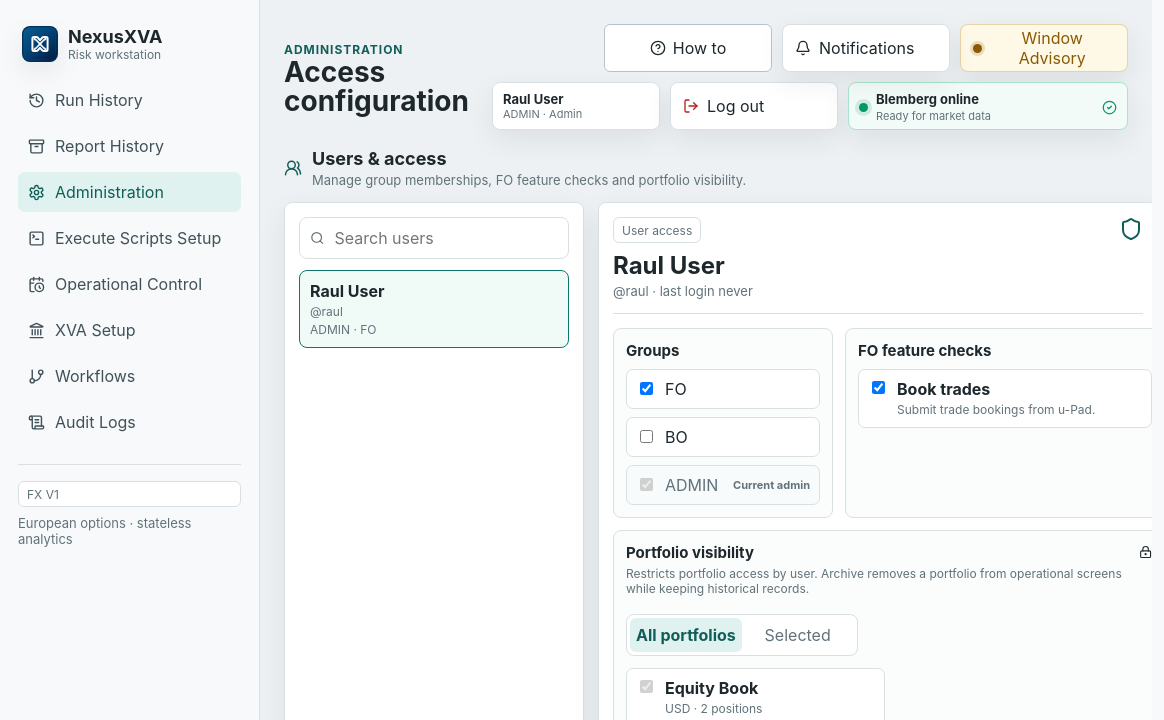
Test: AdminPage › renders users, protects the current ADMIN group, and updates a permission
Check: the text "Raul User" below "Access configuration" is shown, box left=503, top=91, right=564, bottom=107
Check: the checkbox labelled "ADMIN Current admin" is disabled, box left=640, top=478, right=653, bottom=491
Step 1. Click the checkbox labelled "Book trades Submit trade bookings from u-Pad." → point(878, 388), box left=872, top=381, right=885, bottom=394
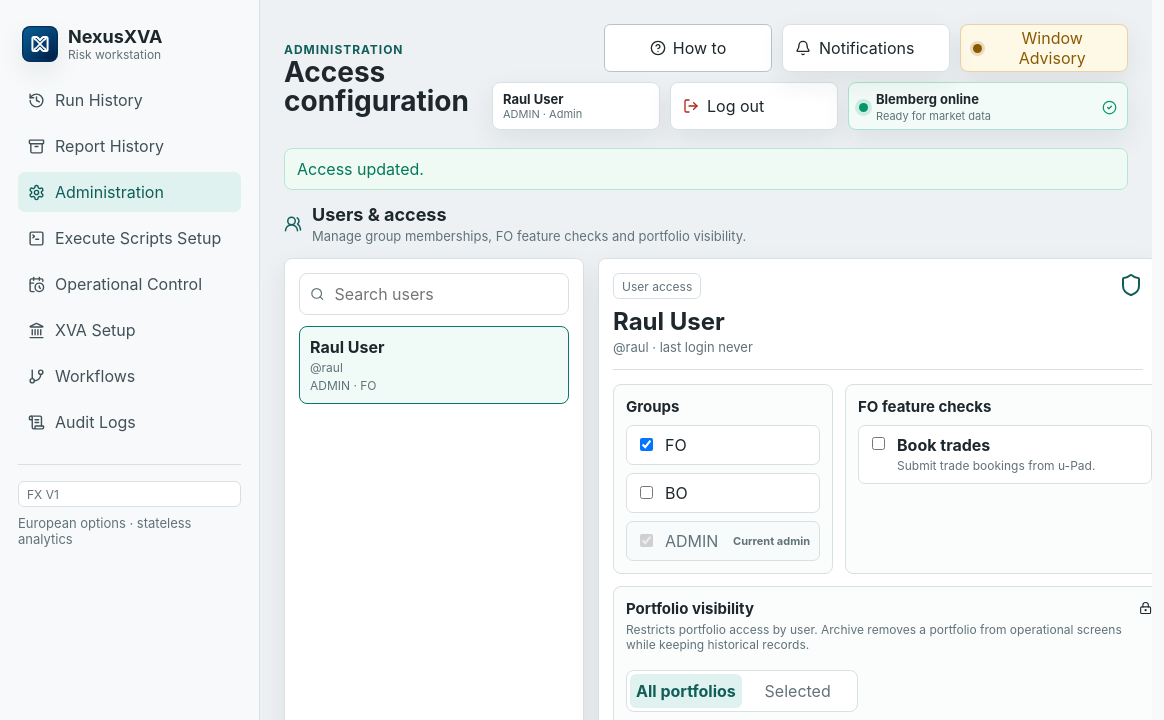
Check: the text "Access updated." is shown, box left=284, top=148, right=1128, bottom=190
